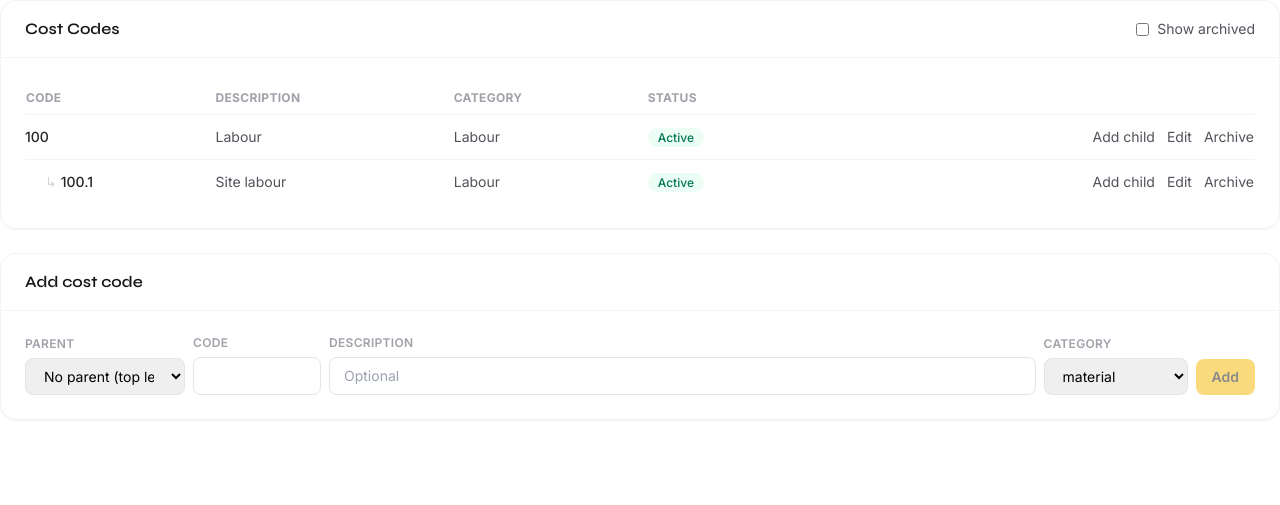
it: CostCodesSection › blocks archiving a cost code referenced by estimate lines
Click the 1st button "Archive".
click(1229, 137)  # box [1204,127,1254,147]
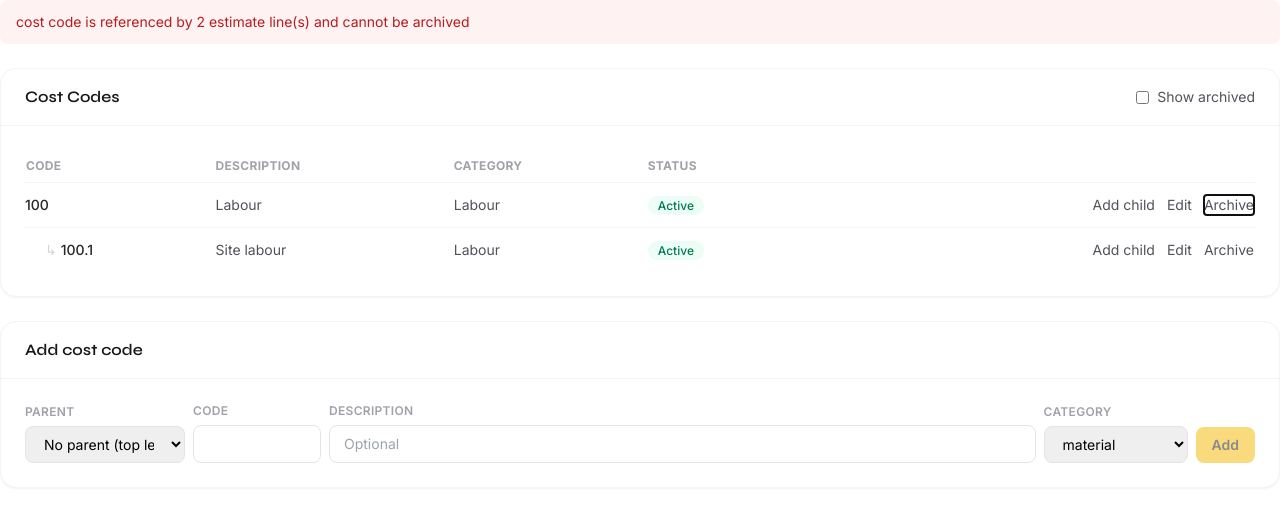
Result: the text "cost code is referenced by 2 estimate line(s) and cannot be archived" is shown at [0,0,1279,44]
